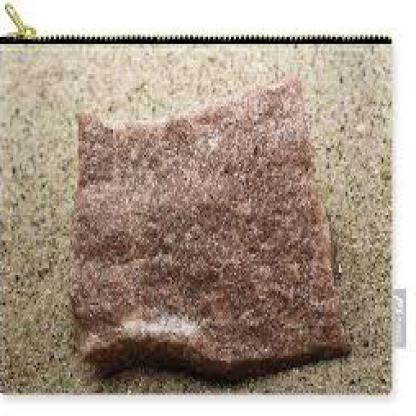Metamorphic_Quartize: (61, 86, 359, 376)
